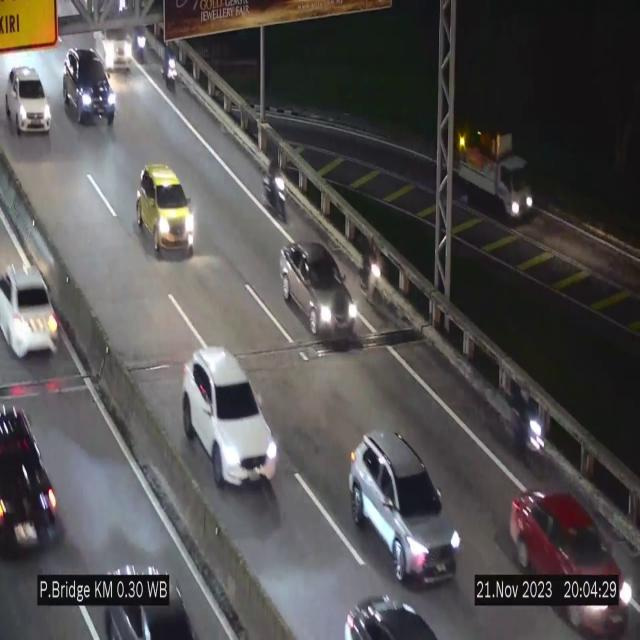Car: (511, 491, 635, 640), (348, 432, 460, 584), (182, 348, 278, 487), (0, 378, 66, 569), (98, 541, 184, 640), (280, 242, 358, 340), (0, 249, 65, 362), (137, 163, 196, 256), (344, 589, 446, 640), (60, 44, 119, 129), (5, 66, 50, 135), (99, 8, 137, 72)
Motorcycle: (508, 378, 547, 484), (260, 148, 288, 225), (362, 230, 384, 320), (161, 44, 179, 102), (136, 18, 149, 66)
Truck: (449, 112, 537, 236)
